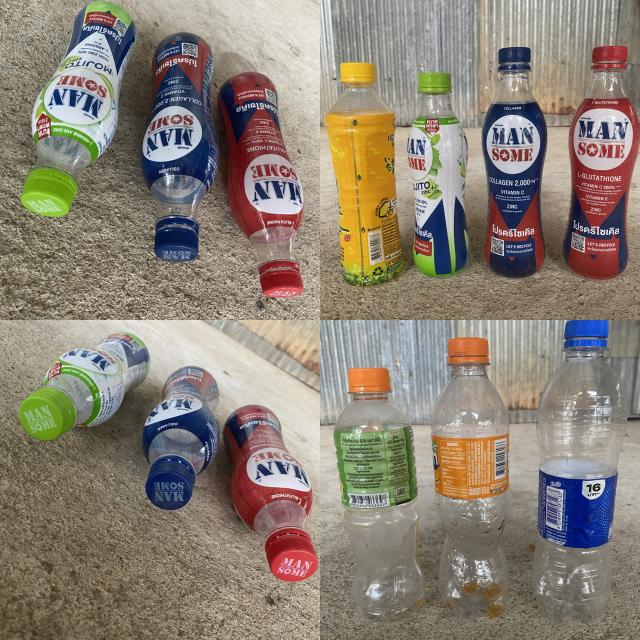plastik: (532, 320, 628, 622), (21, 2, 136, 216), (334, 369, 425, 621), (430, 338, 509, 622), (219, 72, 304, 298), (141, 32, 219, 262), (564, 46, 640, 279), (326, 62, 404, 286), (224, 405, 318, 582), (482, 48, 548, 278), (19, 332, 150, 440), (408, 72, 470, 276), (142, 366, 220, 510)
